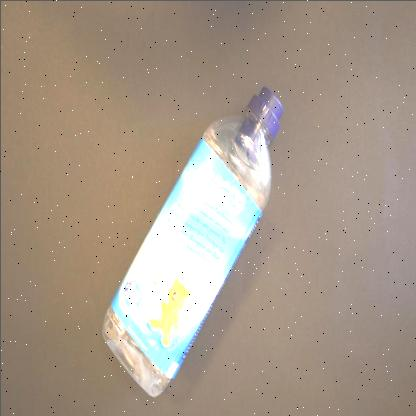Plastic Bottle: (101, 86, 282, 396)
